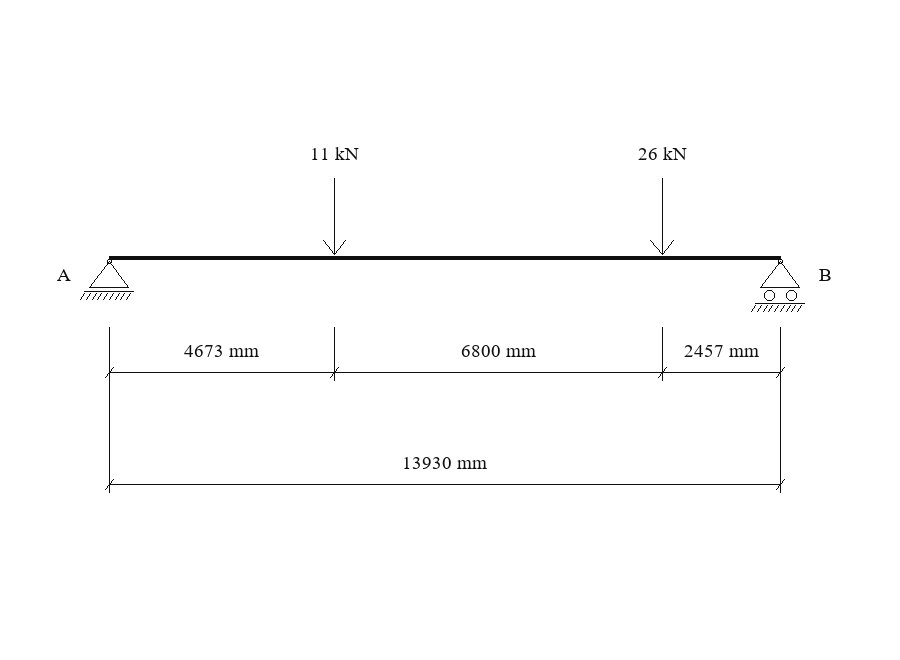pin_support: (80, 259, 134, 300)
point_load: (650, 178, 674, 255), (323, 178, 346, 255)
roller_support: (751, 259, 805, 312)
